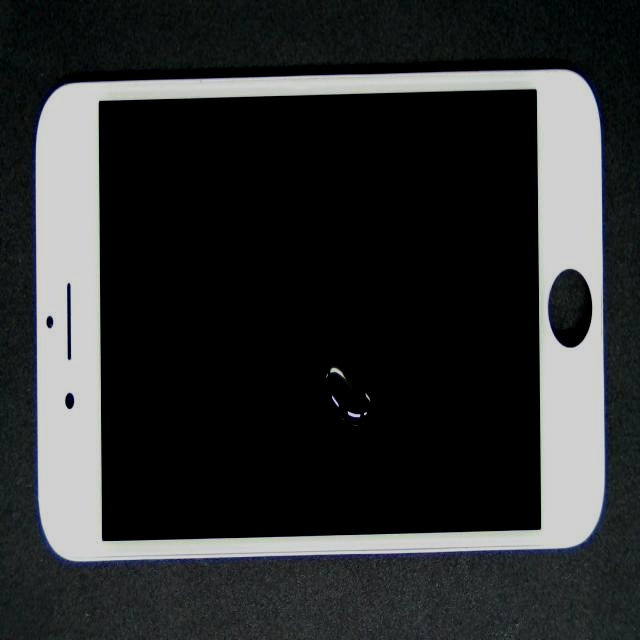oil: (174, 223, 546, 630)
